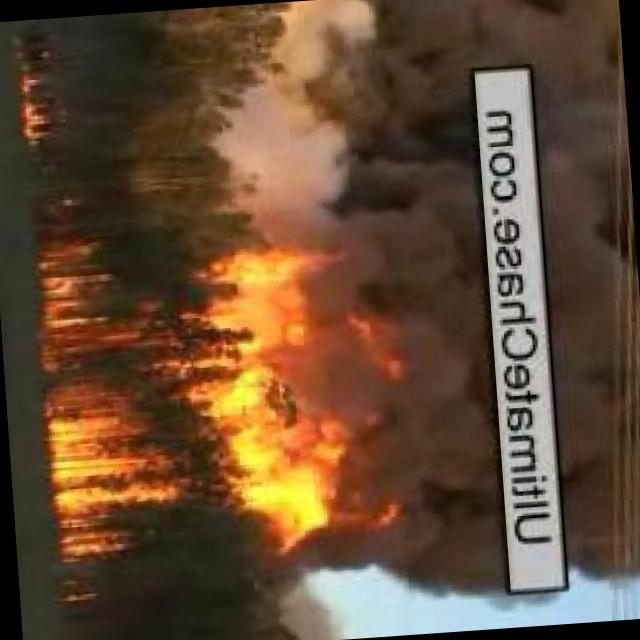Fire: (30, 220, 401, 558), (17, 66, 63, 148)
